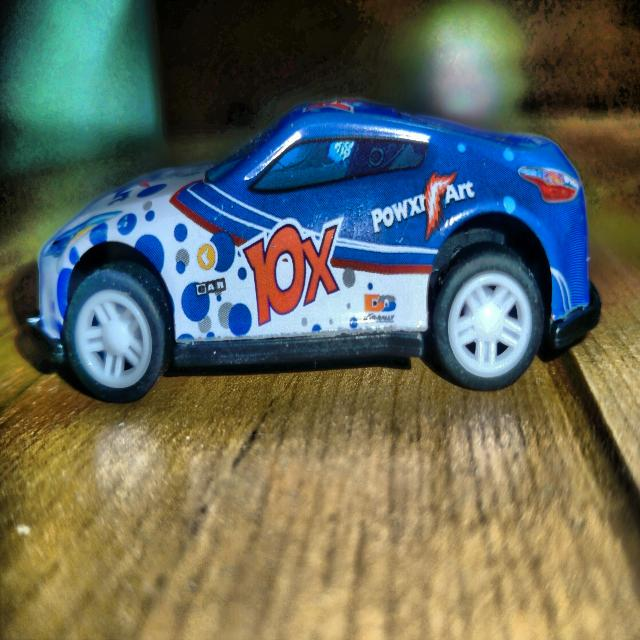Car: (37, 101, 599, 403)
